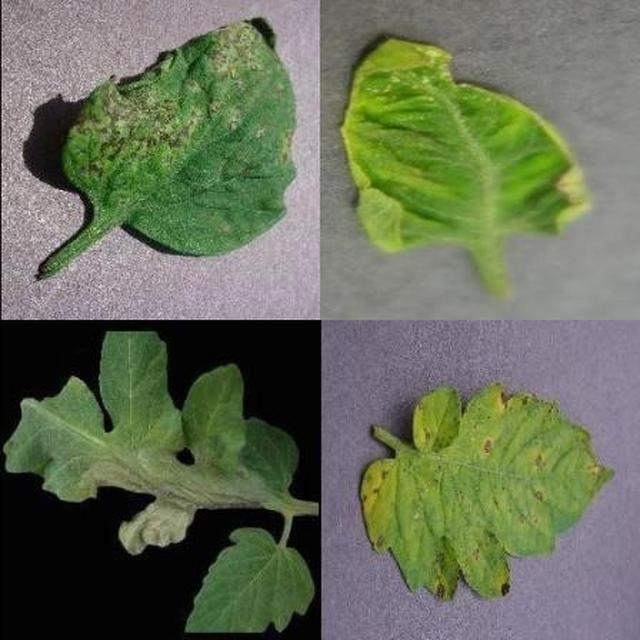Septoria Leaf: (186, 153, 640, 640)
